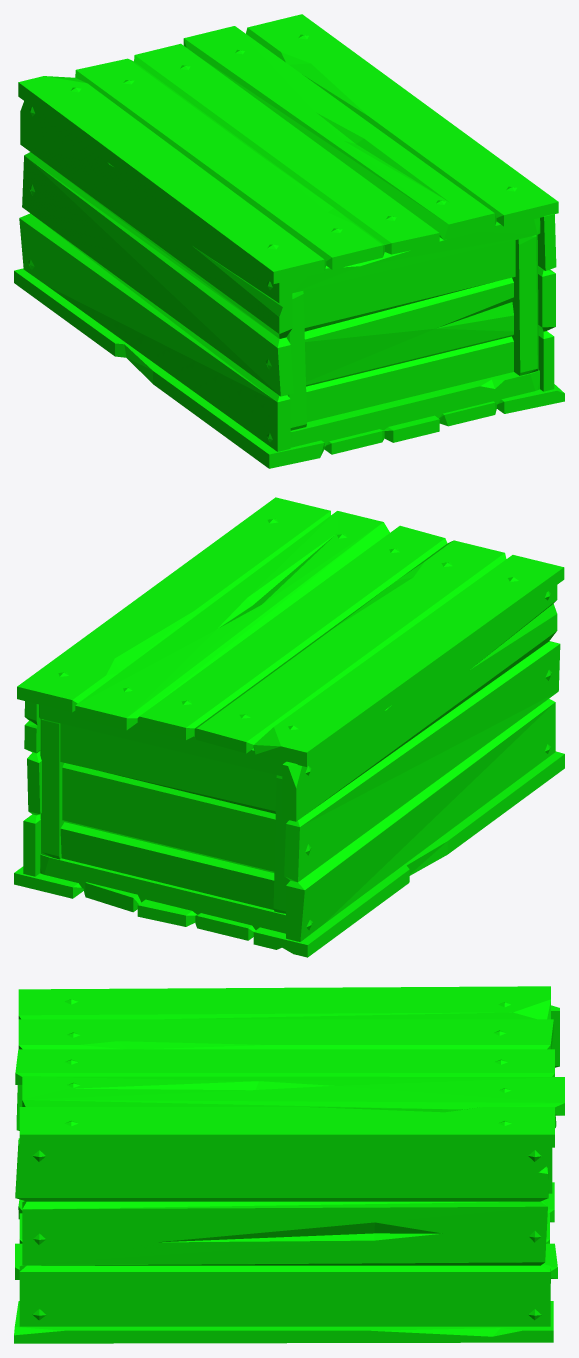
File: SM_Crate_Small_Fantasy.fbx
The picture shows the model from 3 angles, top to bottom: view 1: azimuth 30°, elevation 25°; view 2: azimuth 150°, elevation 25°; view 3: azimuth 270°, elevation 25°; orthographic projection. The views are drawn at different scales.
Visible parts, largest first — view 1: crate-small-base-fantasy, crate-small-lid-fantasy; view 2: crate-small-base-fantasy, crate-small-lid-fantasy; view 3: crate-small-base-fantasy, crate-small-lid-fantasy.
Boxes of the visible parts, x1,y1,x2,y2 form: crate-small-base-fantasy: (14,101,564,468); crate-small-lid-fantasy: (18,14,558,284); crate-small-base-fantasy: (14,585,564,957); crate-small-lid-fantasy: (17,497,564,766); crate-small-base-fantasy: (14,1005,559,1343); crate-small-lid-fantasy: (15,986,564,1147).
Bounding box in the file's own units: 0.8064 × 0.5435 × 1.26.
